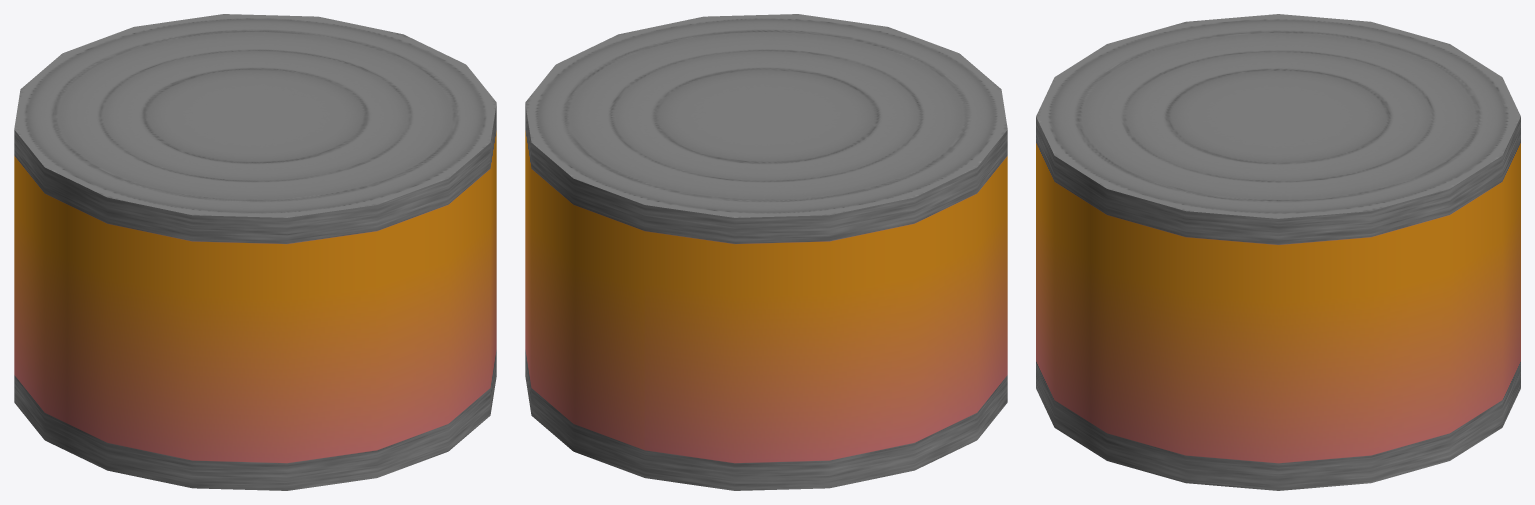
The model's file is tincangradient_001.glb.
The picture shows the model from 3 angles, left to right: view 1: azimuth 30°, elevation 25°; view 2: azimuth 150°, elevation 25°; view 3: azimuth 270°, elevation 25°; orthographic projection.
Visible parts, largest first — view 1: tincangradient.001; view 2: tincangradient.001; view 3: tincangradient.001.
Boxes of the visible parts, x1,y1,x2,y2 form: tincangradient.001: [14, 14, 496, 490]; tincangradient.001: [525, 14, 1007, 490]; tincangradient.001: [1036, 14, 1520, 490].
Bounding box in the file's own units: 0.6386 × 0.3954 × 0.6386.
1 material, 1 textured.
